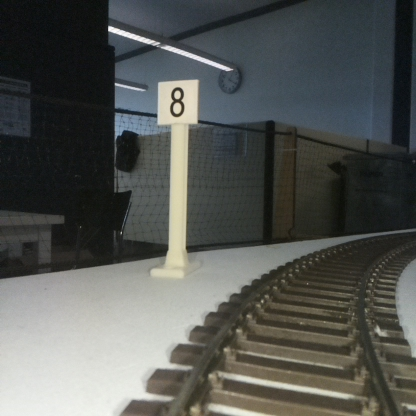white-info-8: (157, 79, 198, 274)
